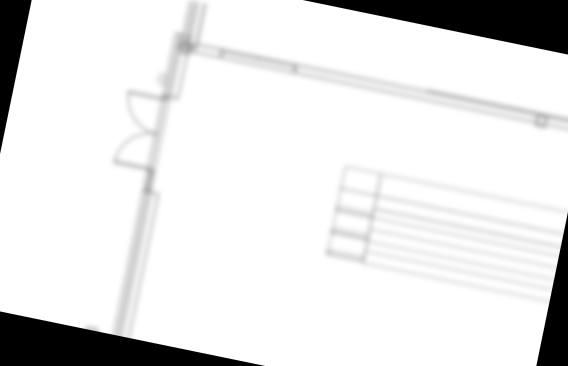double door: (110, 87, 172, 176)
window: (213, 42, 302, 82)
